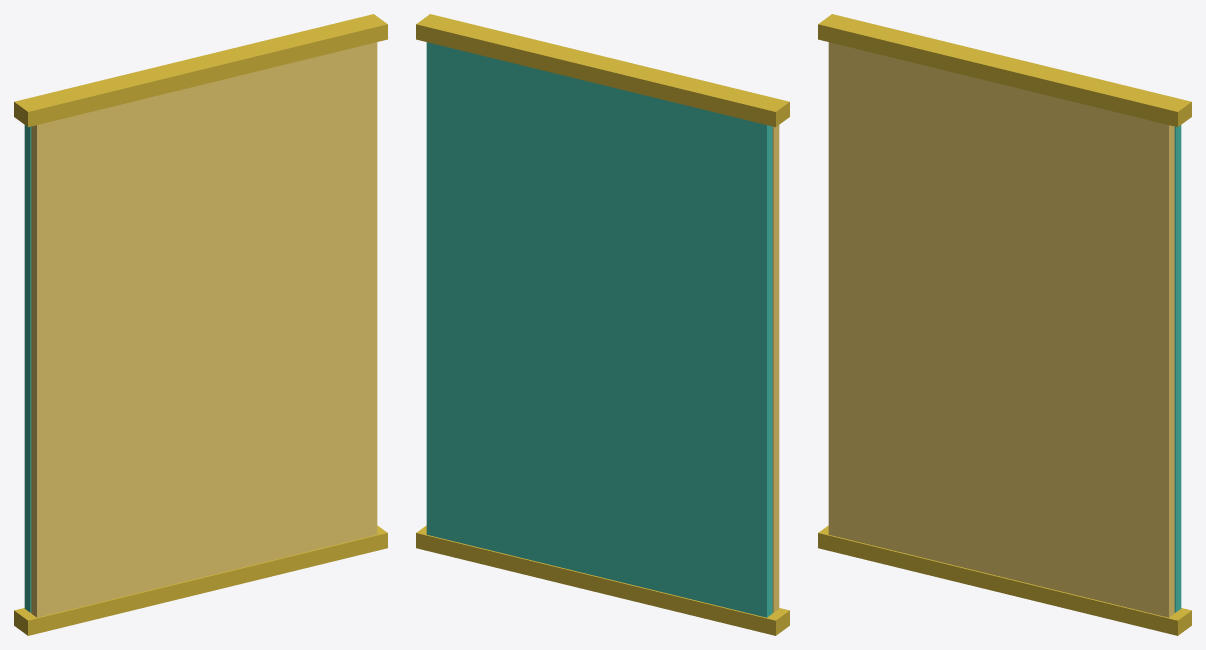
Rendered from player_card.glb.
The picture shows the model from 3 angles, left to right: view 1: azimuth 30°, elevation 25°; view 2: azimuth 150°, elevation 25°; view 3: azimuth 330°, elevation 25°; orthographic projection.
Size of the model in its own units: 0.74 by 1.03 by 0.05.
